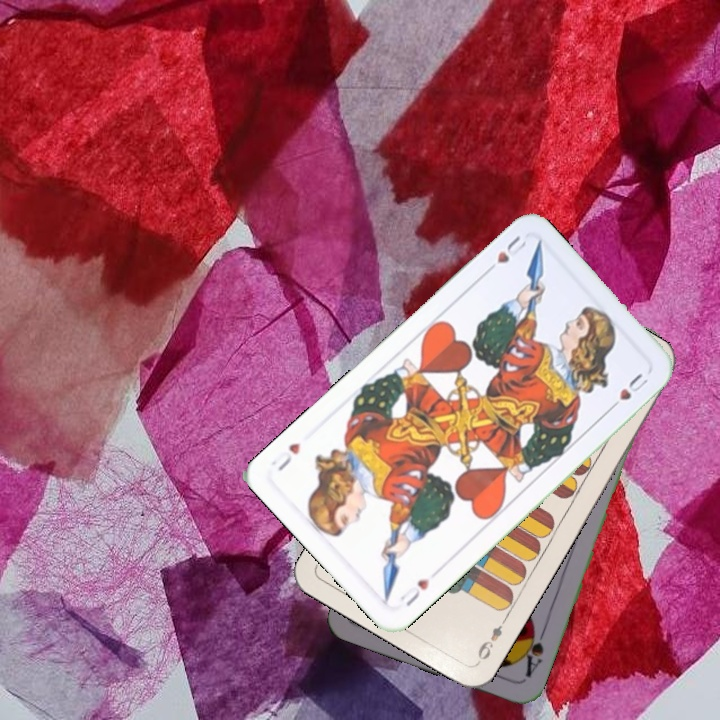E9: (473, 612, 510, 666)
HU: (480, 231, 531, 277), (395, 574, 432, 609)
SA: (516, 621, 549, 680)
